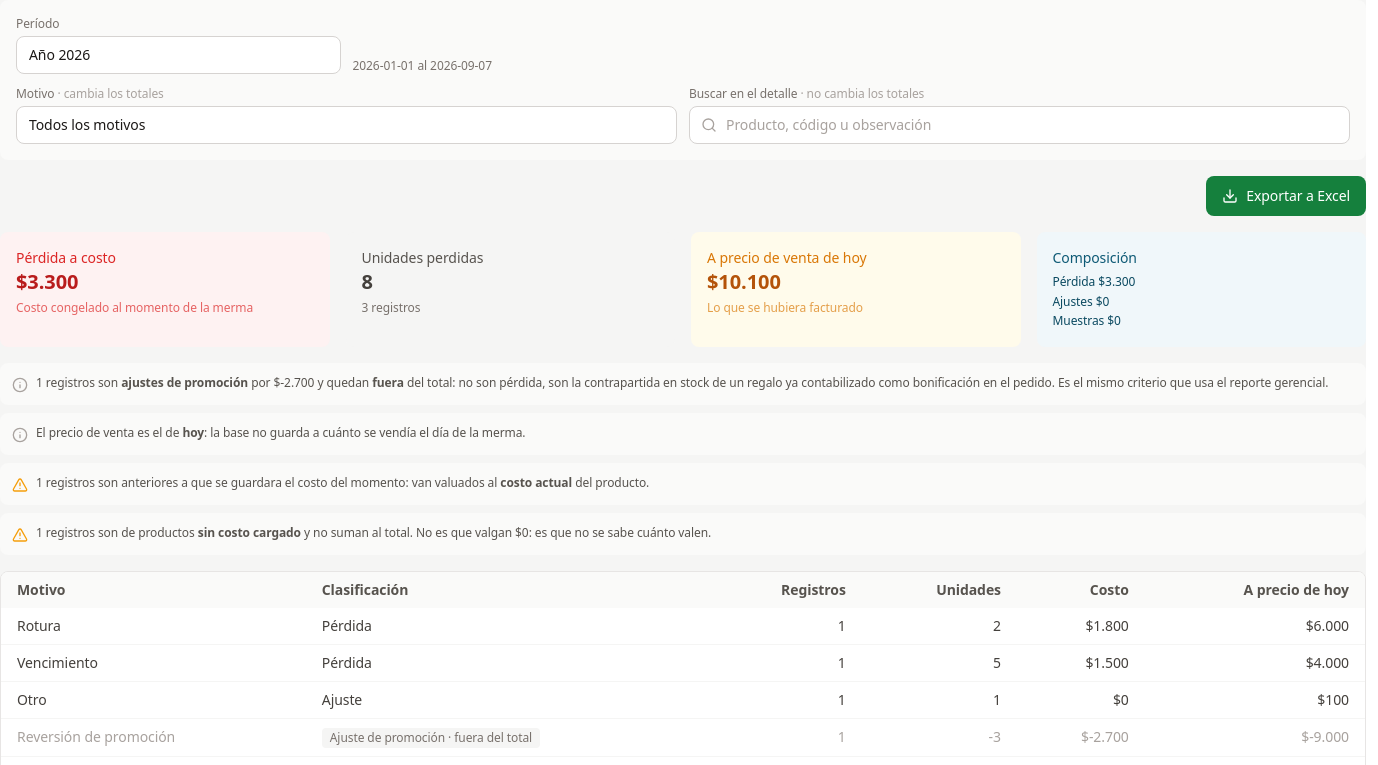
Test: ReporteMermas › el filtro de fecha va al servidor › período personalizado (#1205) › volver a un preset sale de personalizado
The image size is (1378, 765).
Select "Personalizado…" in the dropdown labelled "Período" at (178, 55), box left=16, top=36, right=340, bottom=74
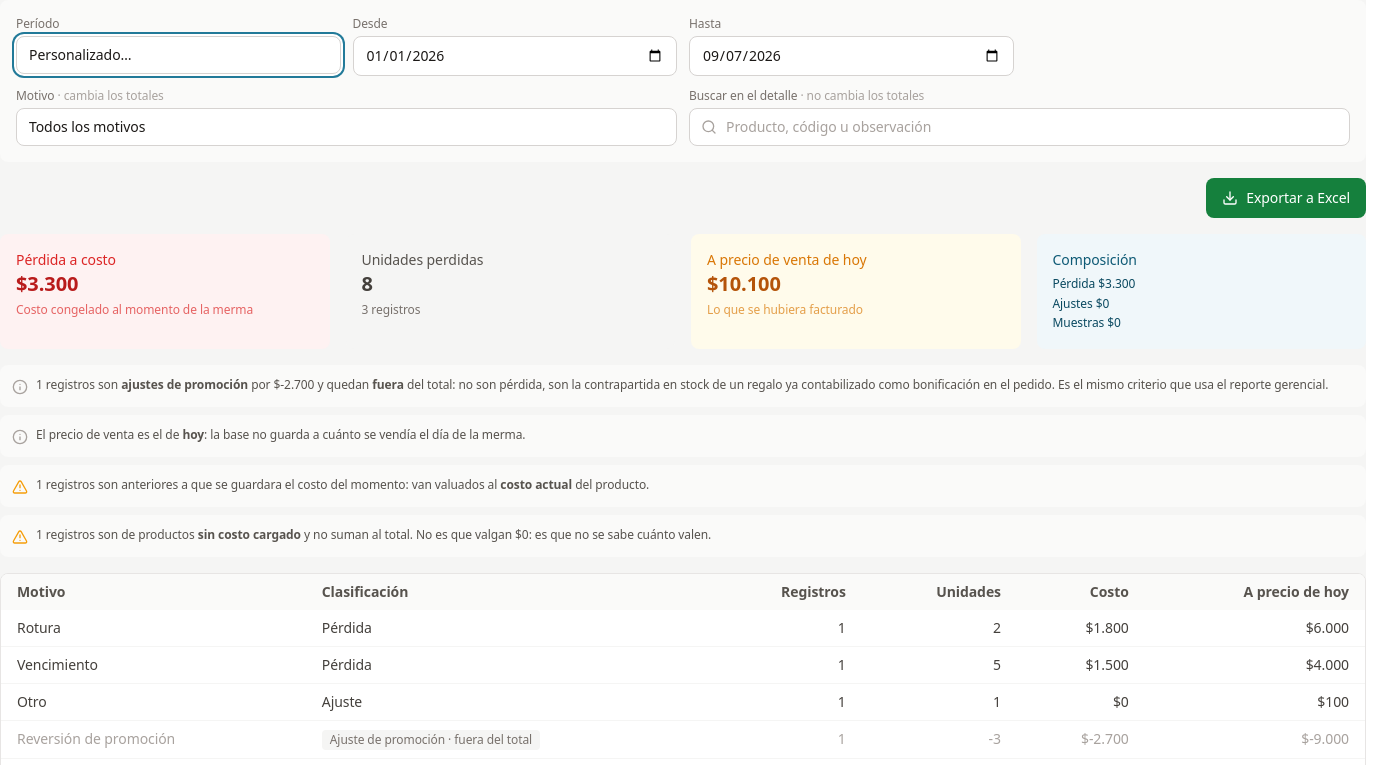
Select "Septiembre 2026 (en curso)" in the dropdown labelled "Período" at (178, 55), box left=16, top=36, right=340, bottom=74
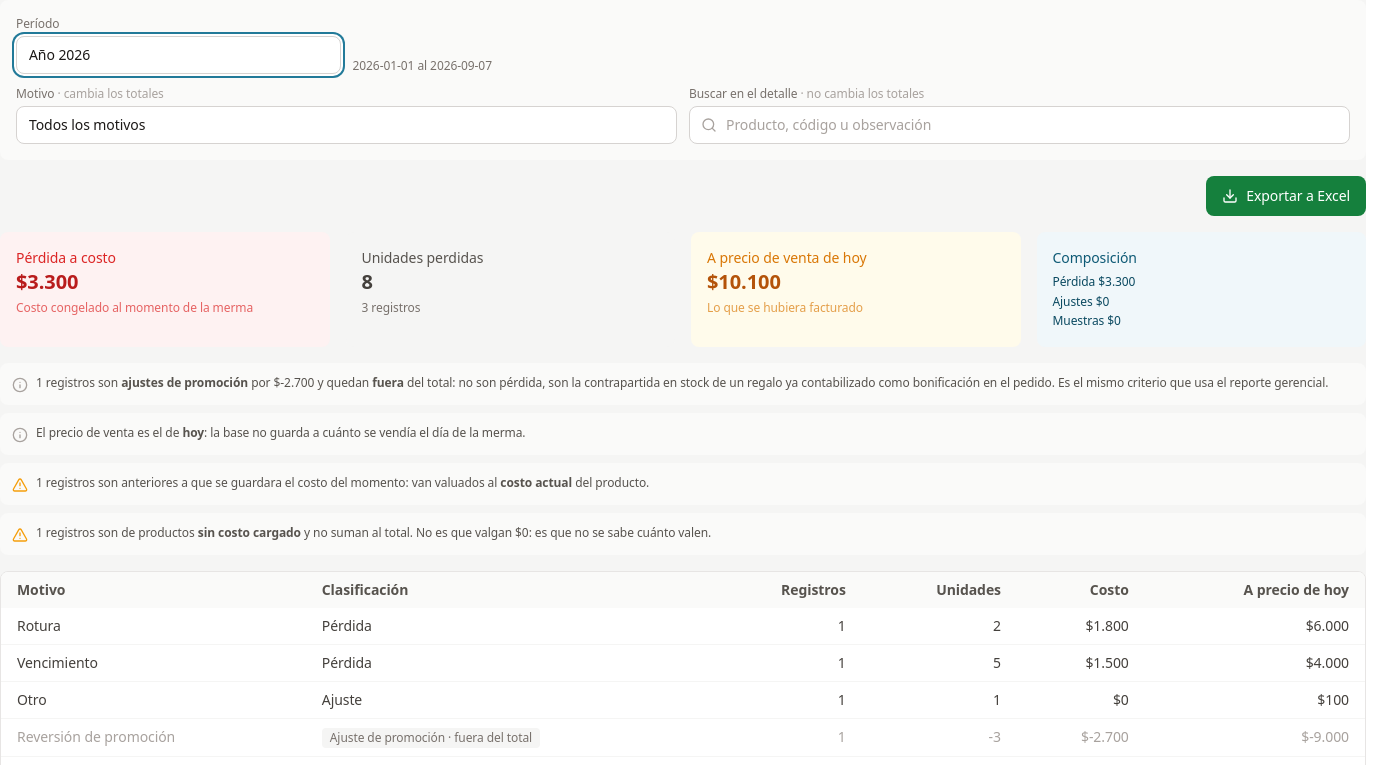
Check: the label labelled "Desde" is gone
